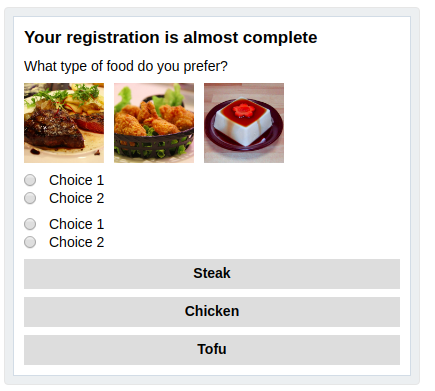image: (19, 79, 109, 167), (201, 80, 290, 167), (110, 79, 197, 167)
radio_button: (17, 232, 113, 253), (23, 212, 111, 234), (21, 187, 120, 206), (19, 170, 110, 189)
textbox: (20, 21, 327, 54), (23, 57, 239, 77)
